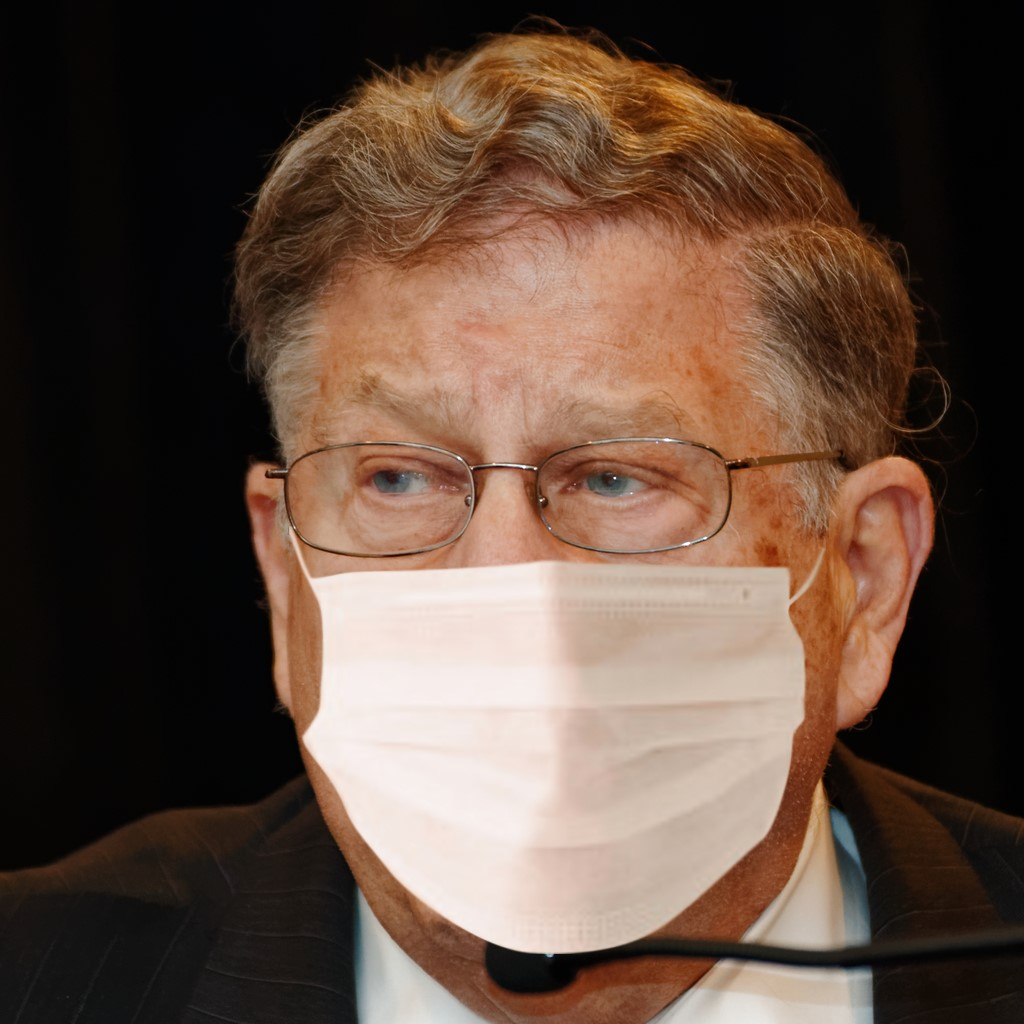con_mascara: (263, 190, 855, 962)
